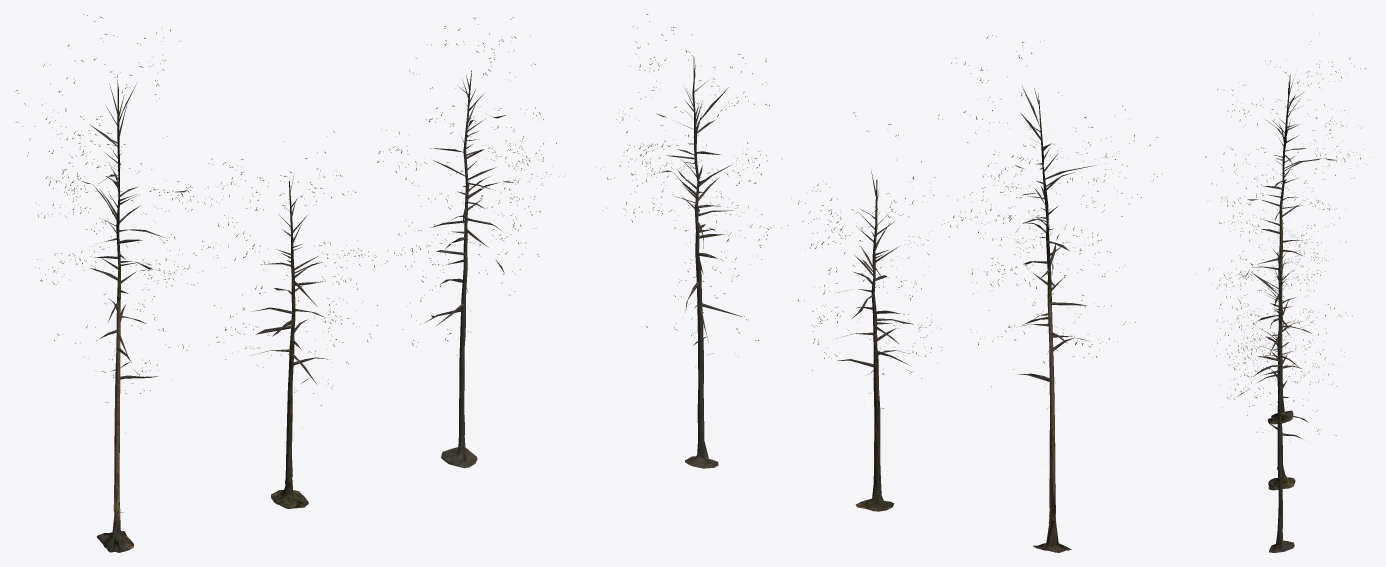
The model's file is pine_tree_01.glb.
3 renders of one model, left to right at view 1: azimuth 30°, elevation 25°; view 2: azimuth 150°, elevation 25°; view 3: azimuth 270°, elevation 25°, orthographic. The views are drawn at different scales.
Parts seen in each view (by area): view 1: pine_tree_01_a_LOD0, pine_tree_01_c_LOD0, pine_tree_01_b_LOD0; view 2: pine_tree_01_a_LOD0, pine_tree_01_c_LOD0, pine_tree_01_b_LOD0; view 3: pine_tree_01_a_LOD0, pine_tree_01_c_LOD0, pine_tree_01_b_LOD0.
Part boxes in pixels (x1,y1,x2,y2): pine_tree_01_a_LOD0: (14,14,563,552); pine_tree_01_c_LOD0: (441,70,477,468); pine_tree_01_b_LOD0: (271,181,308,508); pine_tree_01_a_LOD0: (600,14,1162,552); pine_tree_01_c_LOD0: (685,65,718,468); pine_tree_01_b_LOD0: (855,180,894,511); pine_tree_01_a_LOD0: (1195,14,1366,485); pine_tree_01_c_LOD0: (1269,252,1294,552); pine_tree_01_b_LOD0: (1268,236,1295,490).
Bounding box in the file's own units: 21.17 × 20.17 × 8.02.
Materials: 6 (6 with a texture image).
